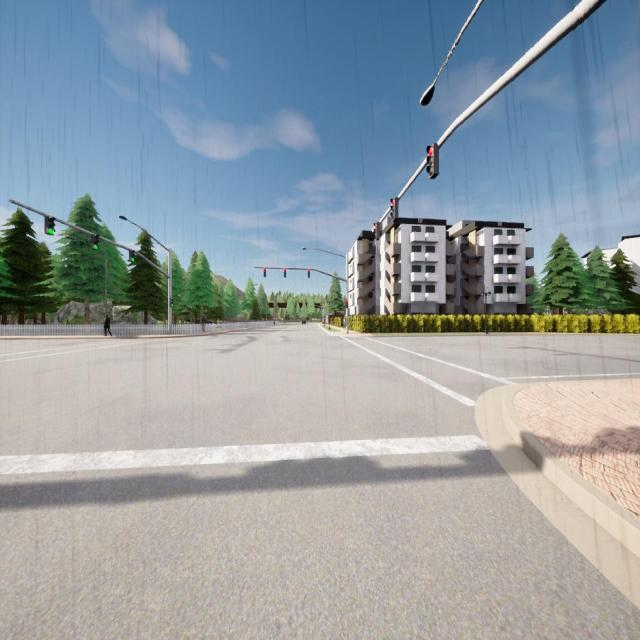Pedestrian: (104, 314, 112, 336), (201, 315, 206, 332)
Vehicle: (302, 320, 306, 324)
traffic_light: (426, 143, 439, 179), (44, 215, 56, 235), (390, 197, 398, 221), (373, 222, 380, 240), (92, 234, 99, 250), (129, 250, 135, 262), (170, 298, 173, 308), (263, 268, 266, 277), (346, 298, 348, 308), (284, 268, 286, 278), (308, 268, 310, 278)
